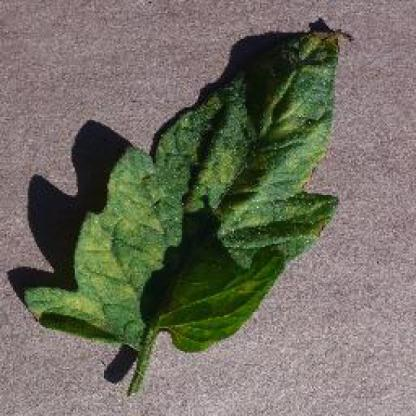Tomato_Leaf_Mold: (21, 28, 356, 354)
